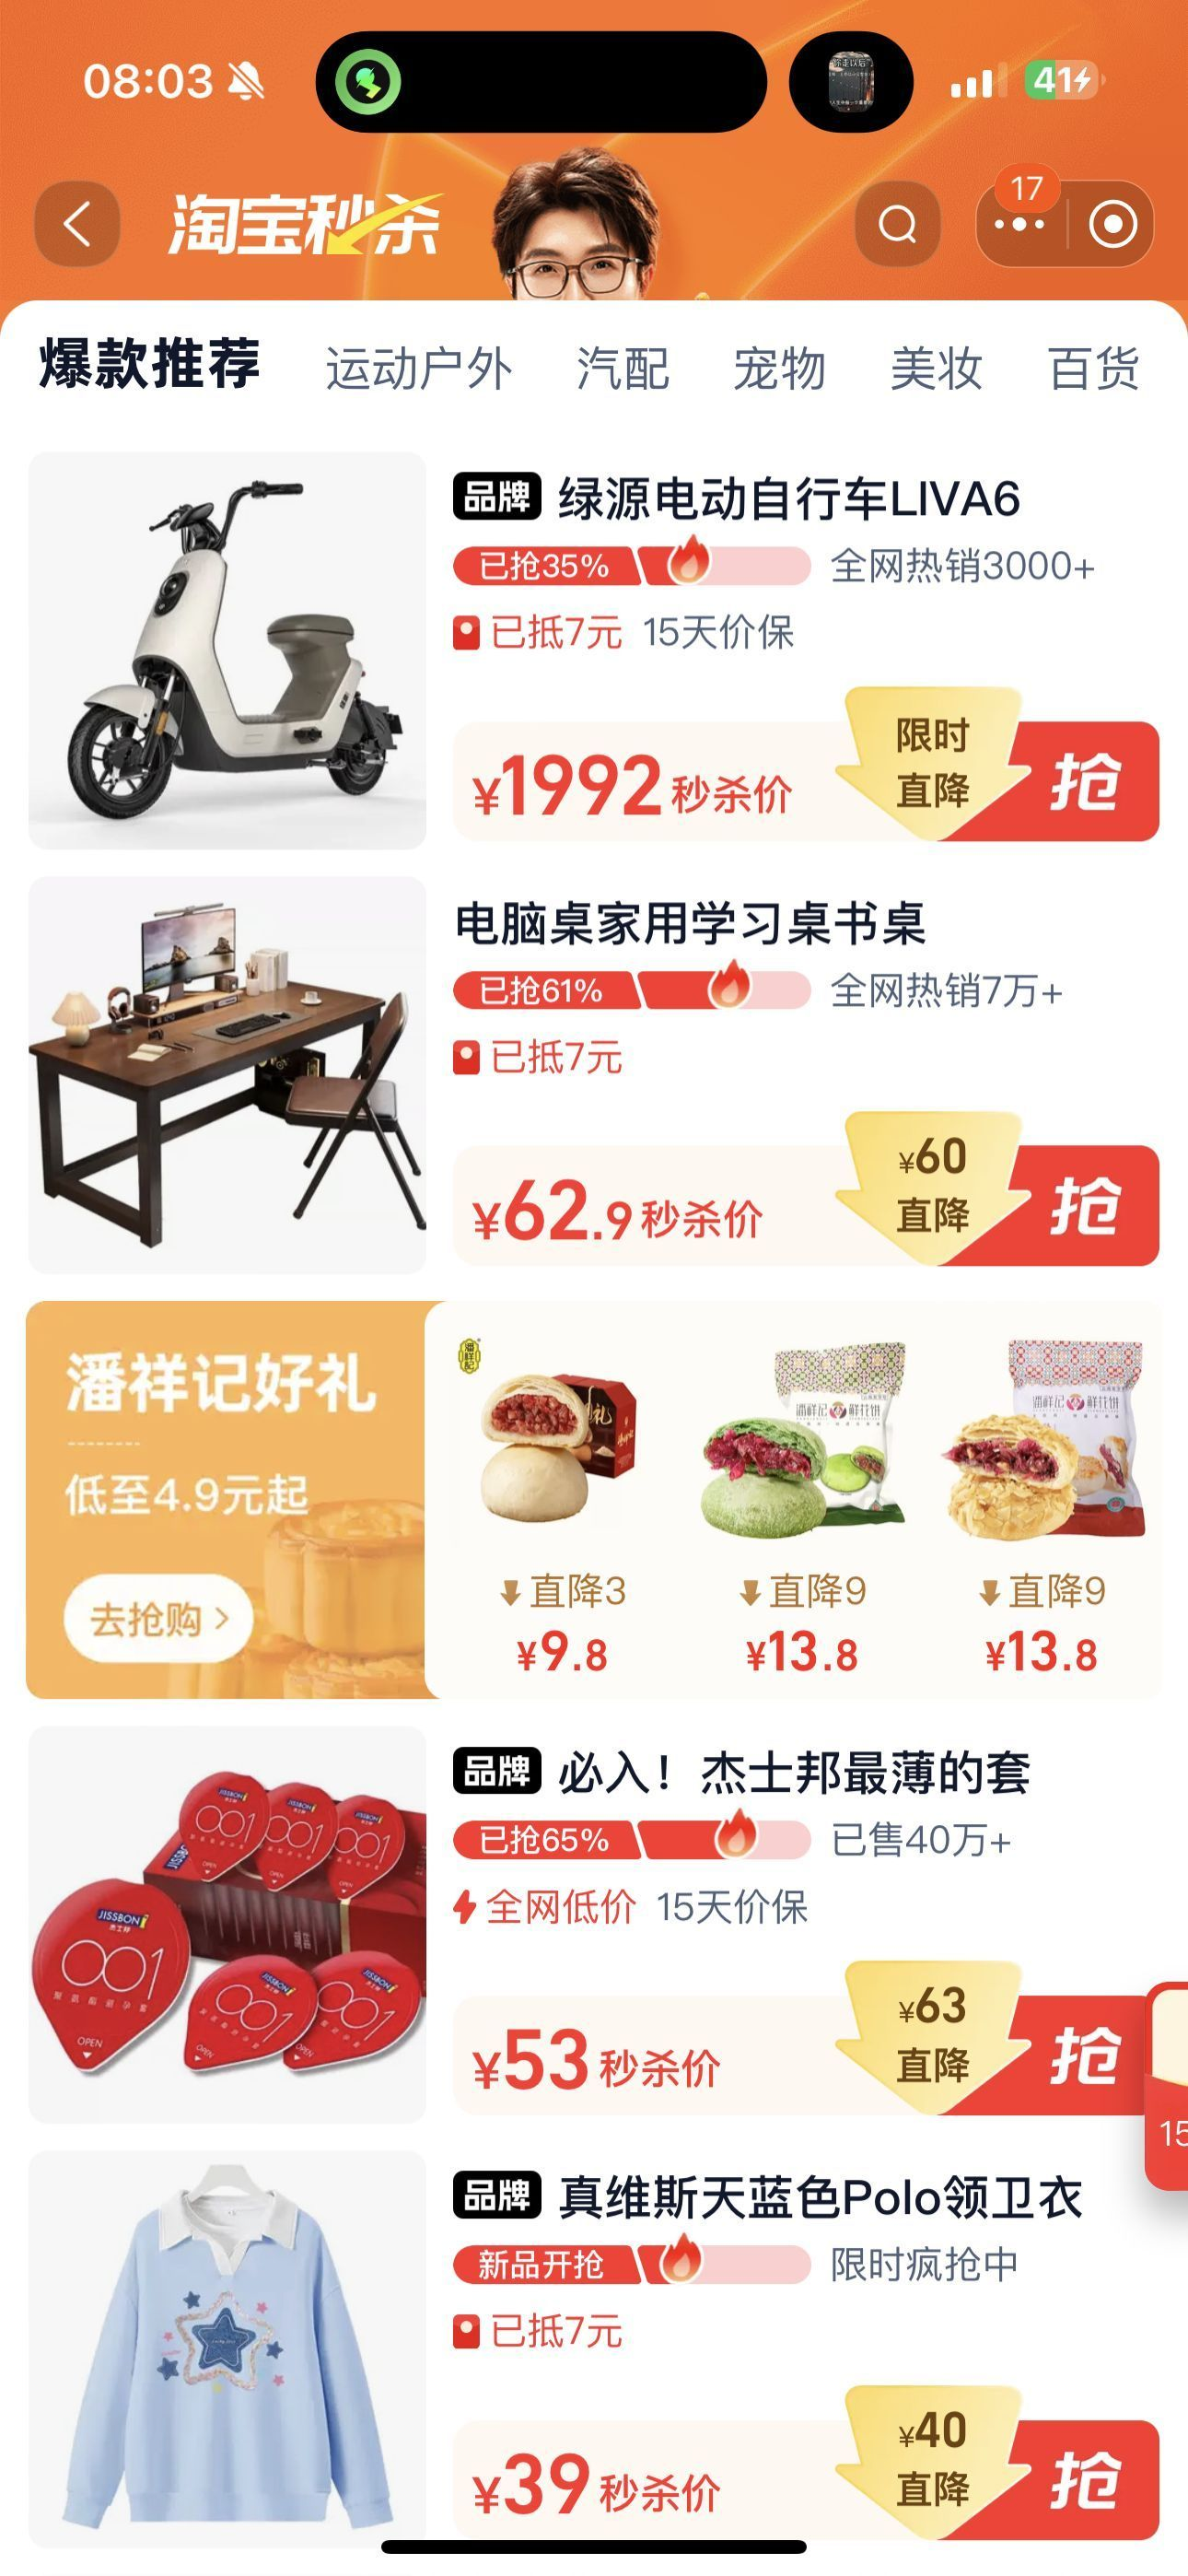item: (5, 430, 1186, 861), (3, 1293, 1181, 1717), (13, 1723, 1188, 2146), (2, 869, 1183, 1281), (16, 2150, 1181, 2558)
op_bar: (2, 164, 1183, 292)
